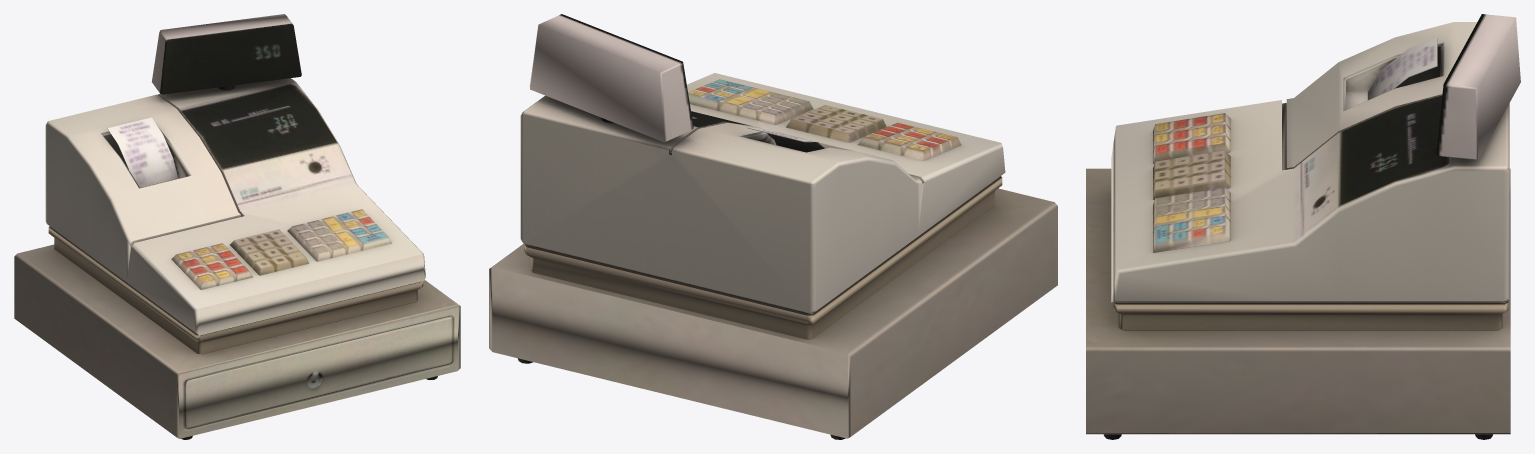
Rendered from registrierkasse.fbx.
The picture shows the model from 3 angles, left to right: view 1: azimuth 30°, elevation 25°; view 2: azimuth 150°, elevation 25°; view 3: azimuth 270°, elevation 25°; orthographic projection. The views are drawn at different scales.
Parts seen in each view (by area): view 1: Mesh; view 2: Mesh; view 3: Mesh.
Boxes of the visible parts, x1=… form: Mesh: x1=14, y1=14, x2=460, y2=439; Mesh: x1=489, y1=14, x2=1057, y2=439; Mesh: x1=1086, y1=14, x2=1520, y2=439.
Bounding box in the file's own units: 59 × 52.26 × 59.77.
